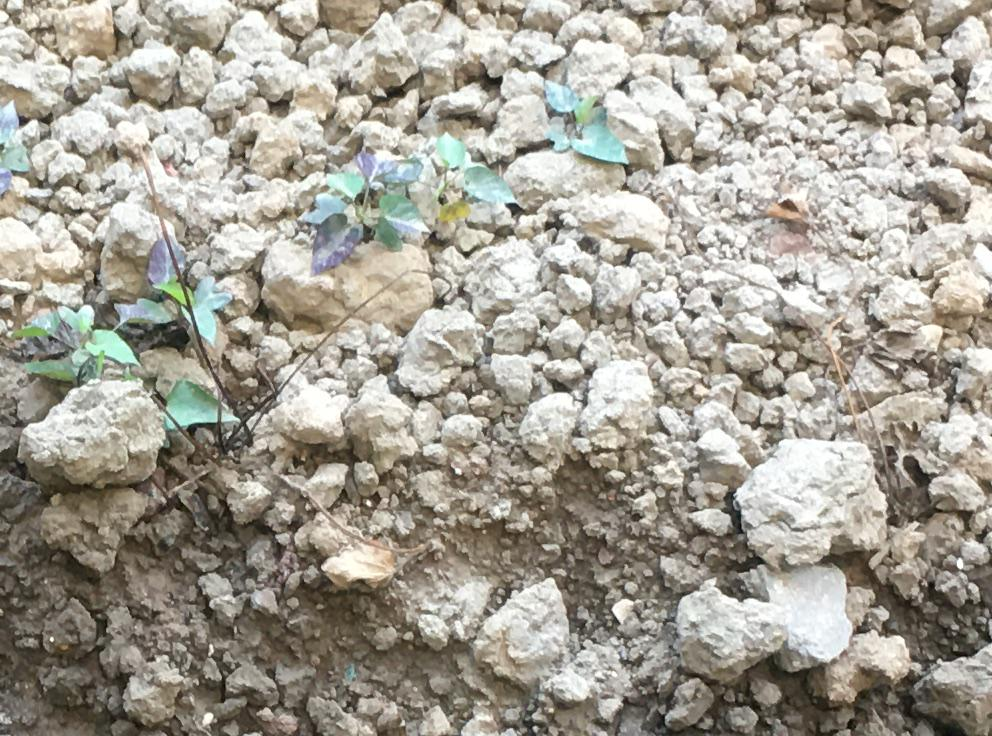block: (733, 436, 896, 565), (261, 228, 434, 333), (14, 376, 167, 486), (674, 580, 787, 680)
